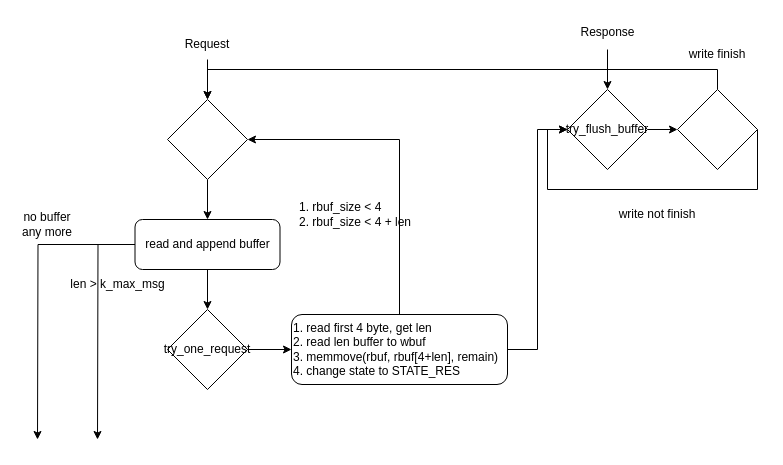
This 783x465 diagram has some shape labels left out. Each missing label, with the centre of its shape:
"try_fill_buffer" goes at point (207, 139).
"write" goes at point (717, 129).
